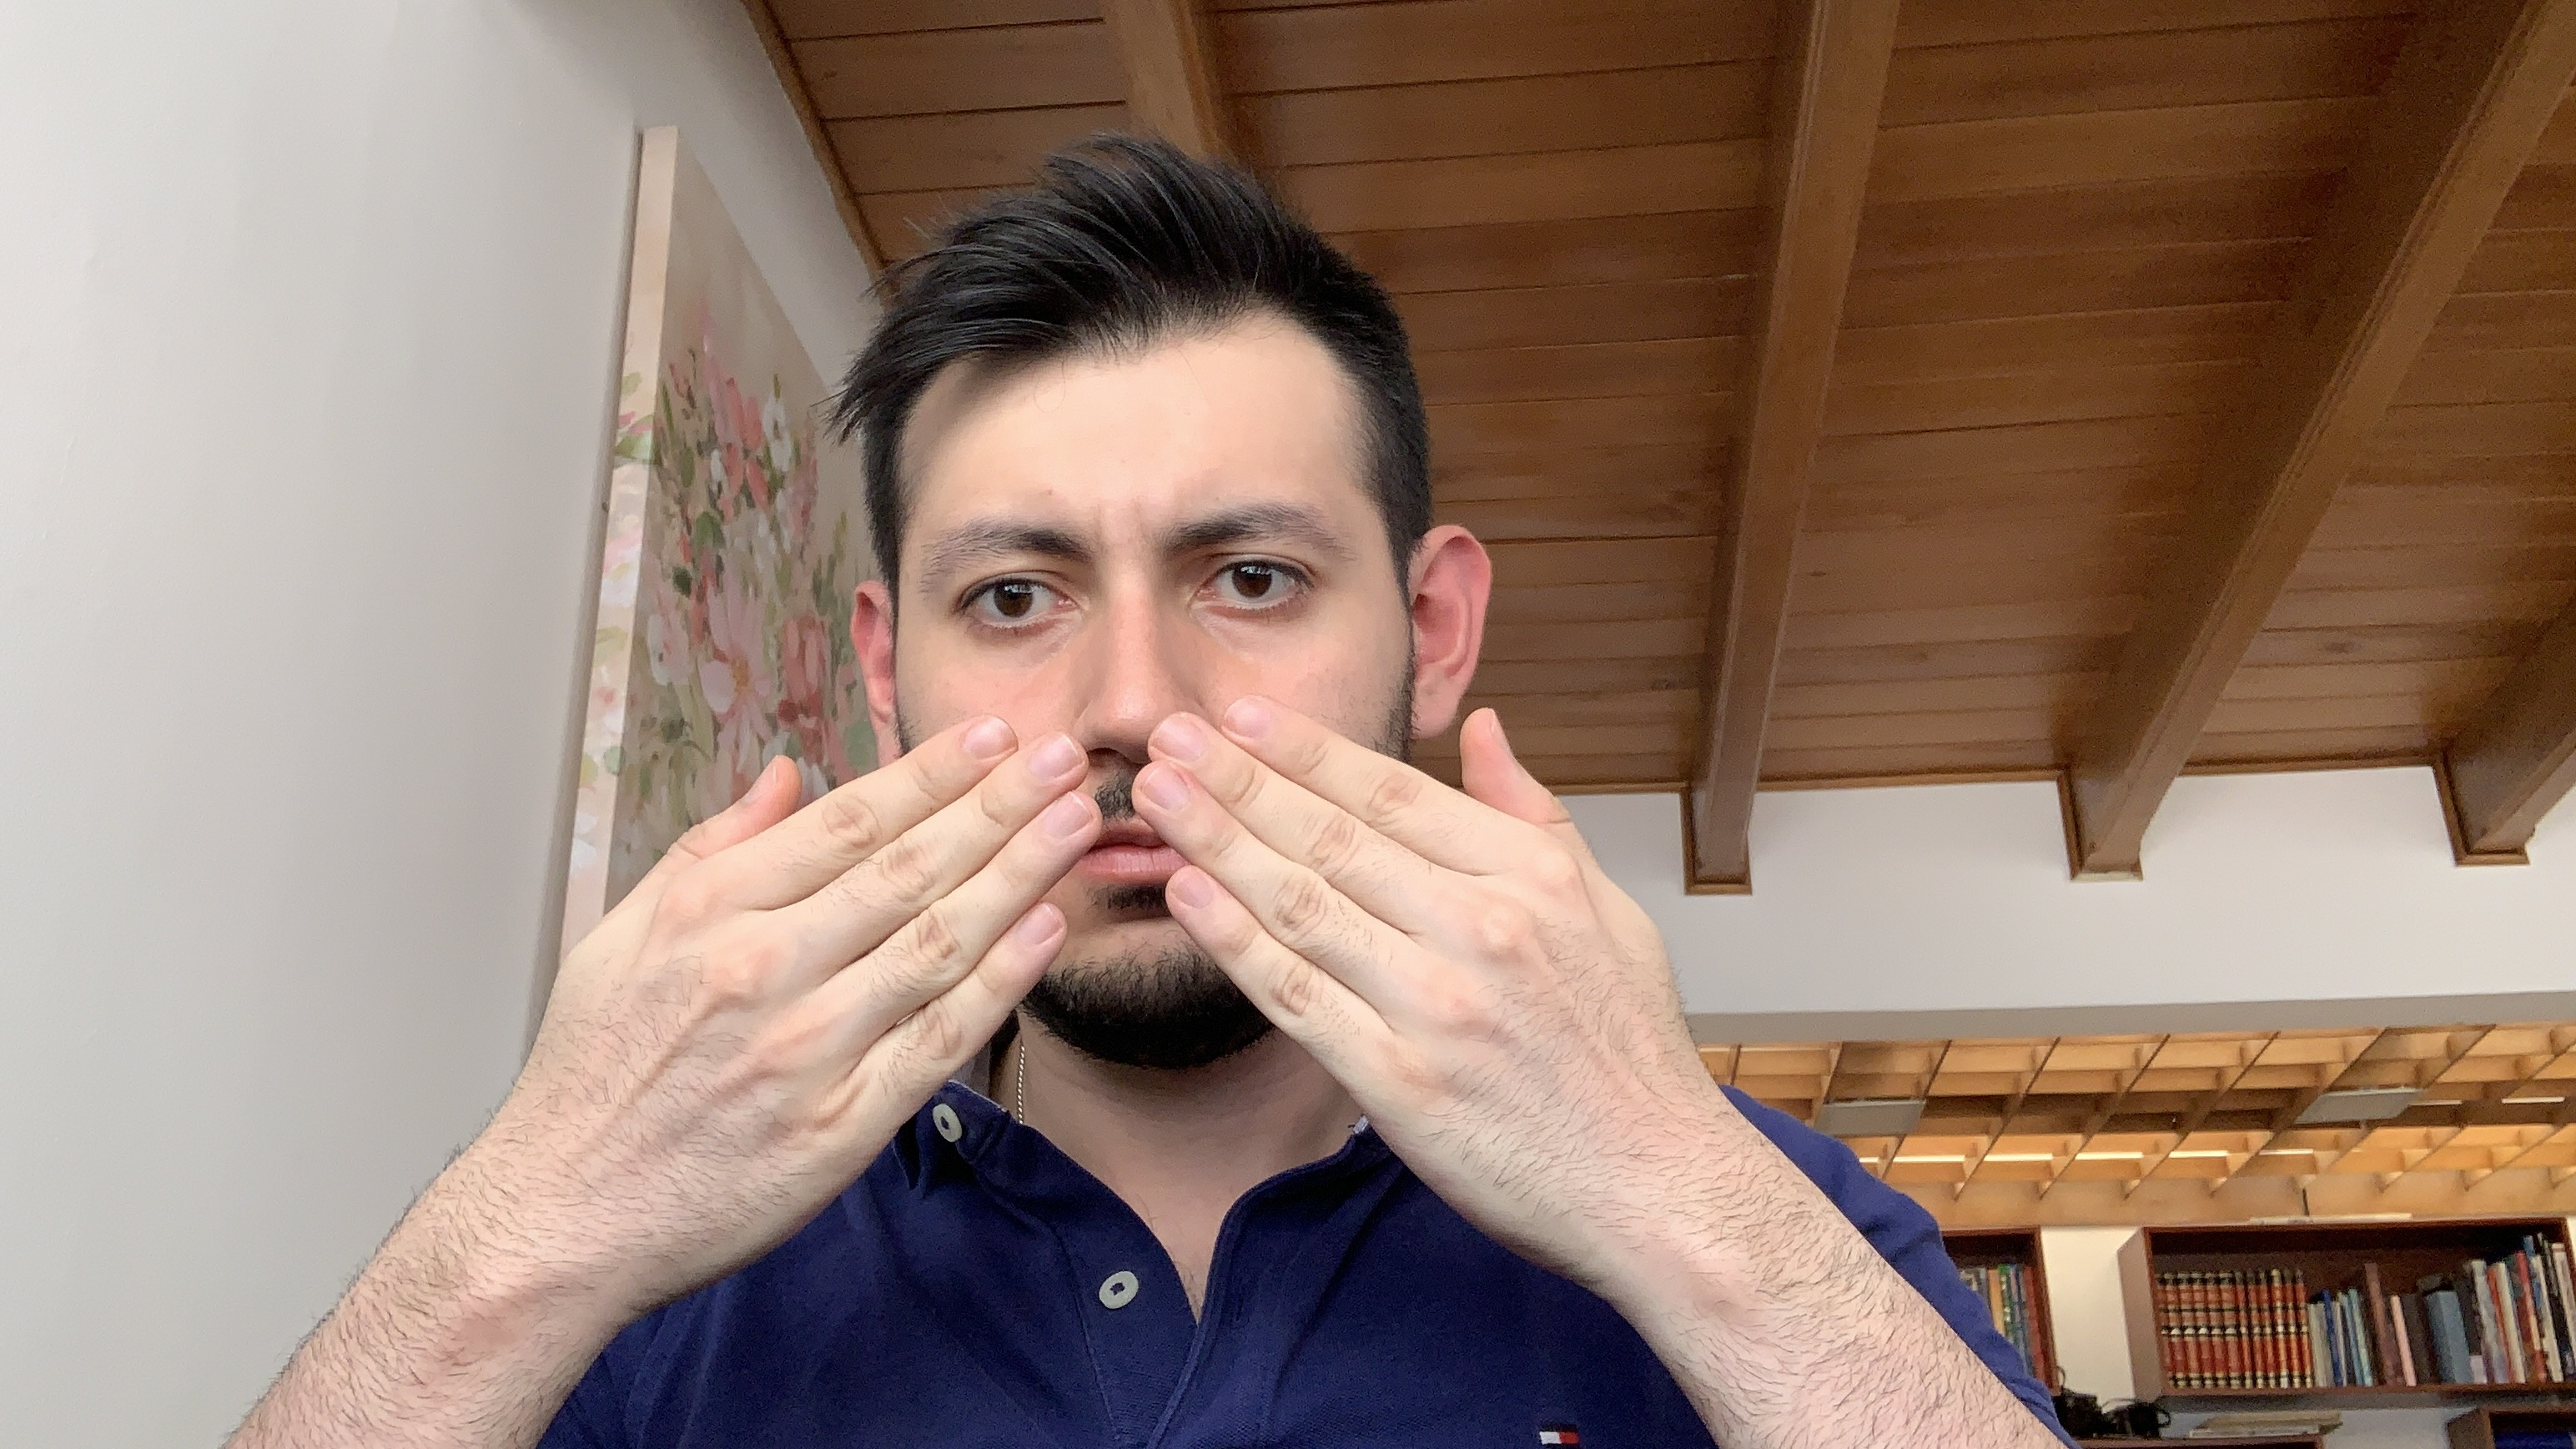Thank You: (520, 688, 1796, 1254)
